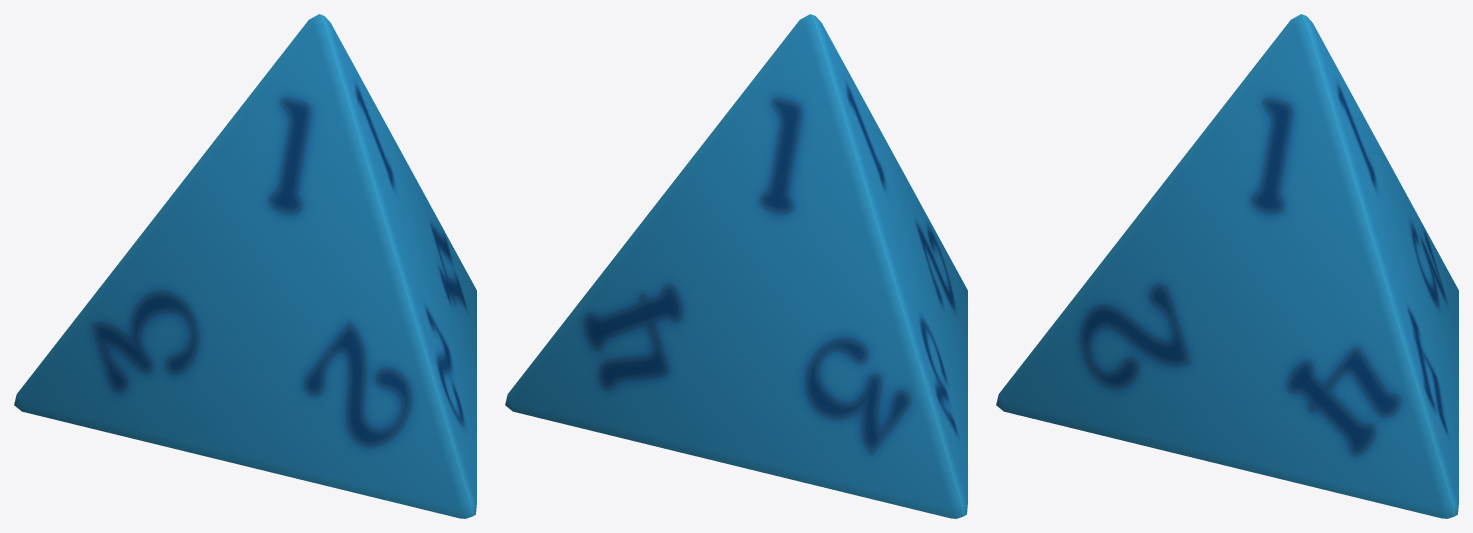
File: D4_blue.glb
The picture shows the model from 3 angles, left to right: view 1: azimuth 30°, elevation 25°; view 2: azimuth 150°, elevation 25°; view 3: azimuth 270°, elevation 25°; orthographic projection.
Parts seen in each view (by area): view 1: D4_blue; view 2: D4_blue; view 3: D4_blue.
Part boxes in pixels (x1,y1,x2,y2): D4_blue: (14,14,476,518); D4_blue: (505,14,967,518); D4_blue: (996,14,1458,518).
Size of the model in its own units: 0.9591 by 0.7969 by 0.8396.
1 material, 1 textured.
